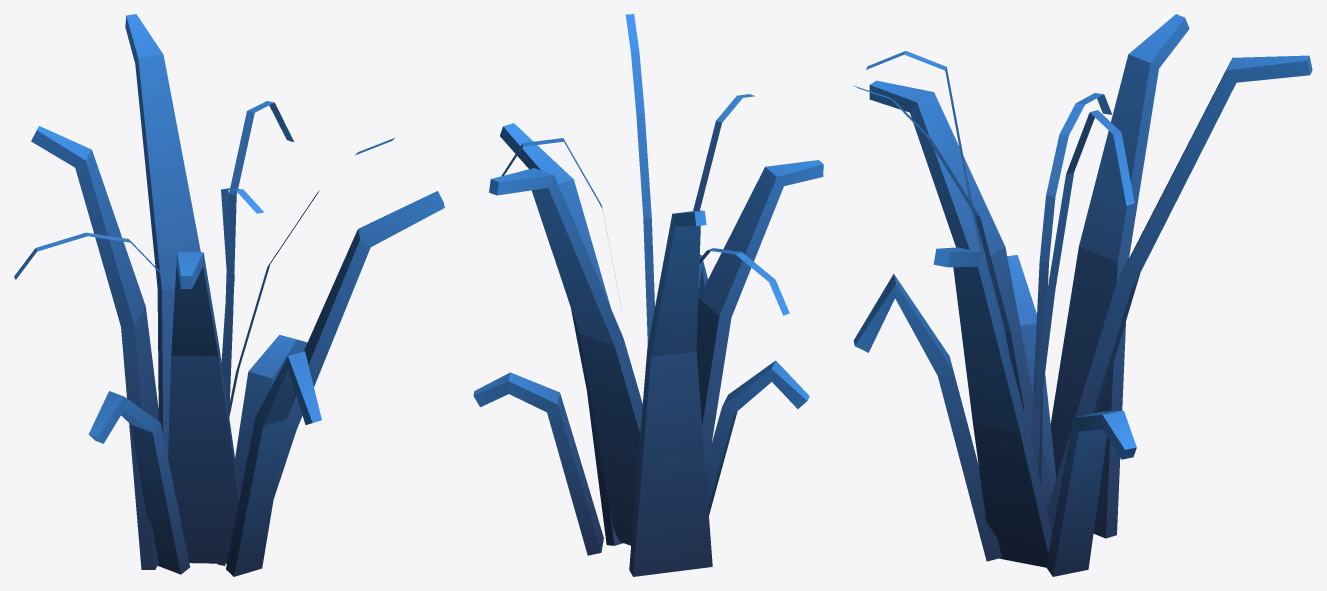
File: BlueGrass2.fbx
The picture shows the model from 3 angles, left to right: view 1: azimuth 30°, elevation 25°; view 2: azimuth 150°, elevation 25°; view 3: azimuth 270°, elevation 25°; orthographic projection. The views are drawn at different scales.
Visible parts, largest first — view 1: BlueGrass2; view 2: BlueGrass2; view 3: BlueGrass2.
Part boxes in pixels (x1=…): BlueGrass2: x1=14, y1=14, x2=444, y2=576; BlueGrass2: x1=473, y1=14, x2=823, y2=576; BlueGrass2: x1=853, y1=14, x2=1312, y2=576.
Bounding box in the file's own units: 146 × 179 × 142.
